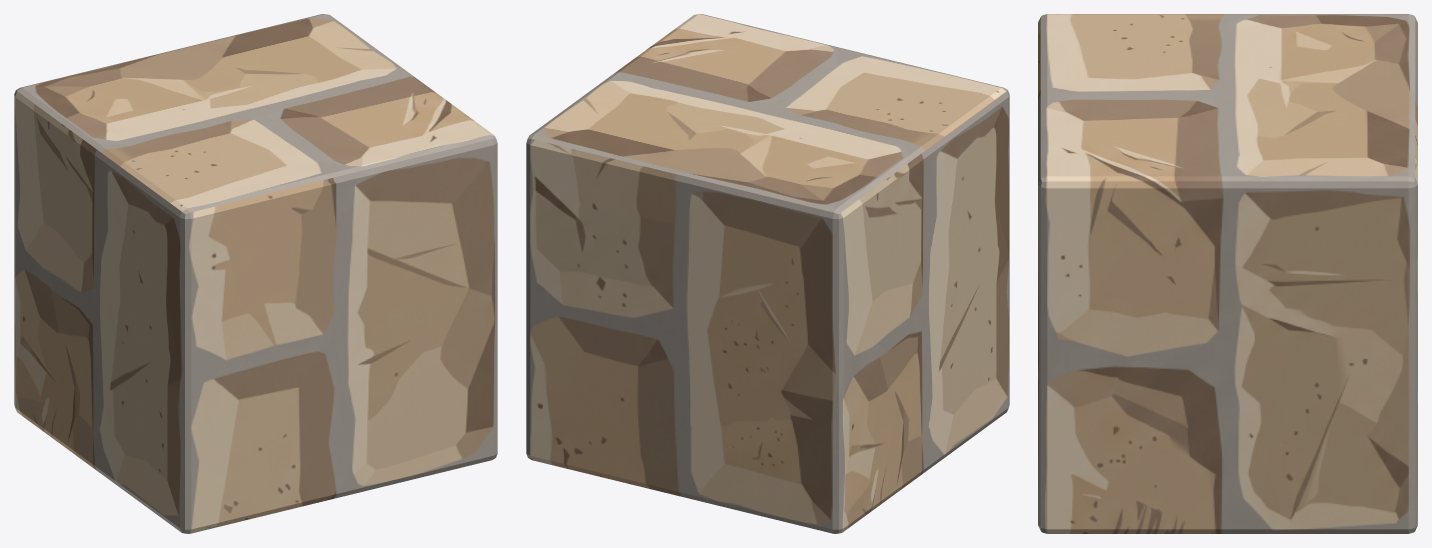
The model's file is ruin_block_110_LOD2.glb.
3 views of the same model, side by side, from view 1: azimuth 30°, elevation 25°; view 2: azimuth 150°, elevation 25°; view 3: azimuth 270°, elevation 25° (orthographic). The views are drawn at different scales.
Visible parts, largest first — view 1: LOD2_Block; view 2: LOD2_Block; view 3: LOD2_Block.
Boxes of the visible parts, x1,y1,x2,y2 form: LOD2_Block: [14, 14, 497, 533]; LOD2_Block: [526, 14, 1009, 533]; LOD2_Block: [1038, 14, 1417, 533].
Bounding box in the file's own units: 1.1 × 1.08 × 1.04.
1 material, 1 textured.
